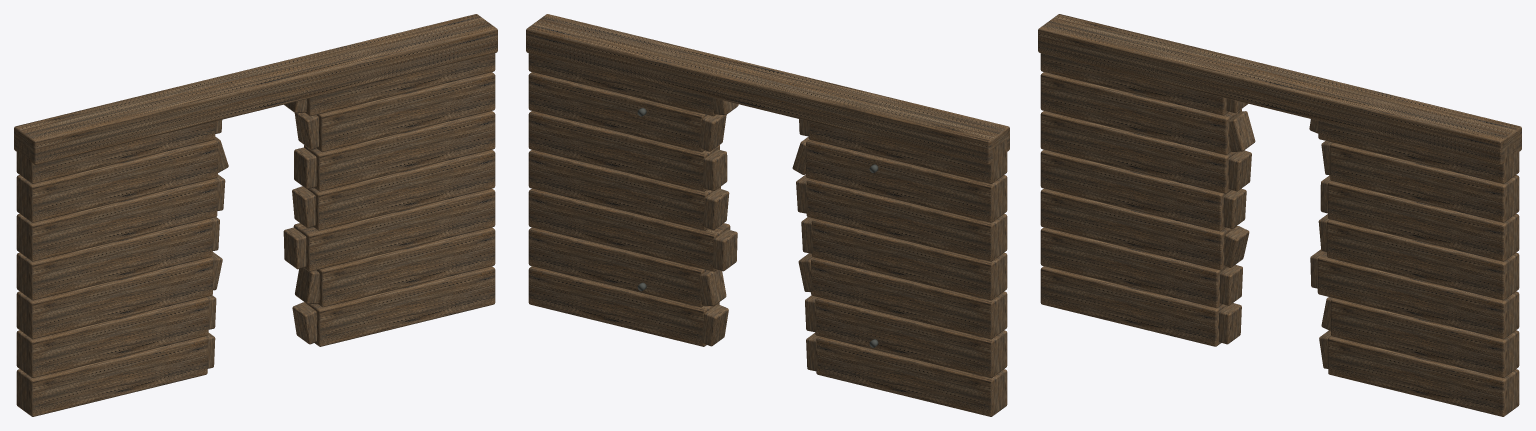
Rendered from fissure_frame.glb.
3 views of the same model, side by side, from view 1: azimuth 30°, elevation 25°; view 2: azimuth 150°, elevation 25°; view 3: azimuth 330°, elevation 25° (orthographic).
Parts seen in each view (by area): view 1: fissure_frame_mesh; view 2: fissure_frame_mesh; view 3: fissure_frame_mesh.
Boxes of the visible parts, left/top/right/bottom form: fissure_frame_mesh: left=14, top=14, right=497, bottom=416; fissure_frame_mesh: left=526, top=14, right=1009, bottom=416; fissure_frame_mesh: left=1038, top=14, right=1521, bottom=416.
Size of the model in its own units: 5 by 2.86 by 0.41.
2 materials, 1 textured.
